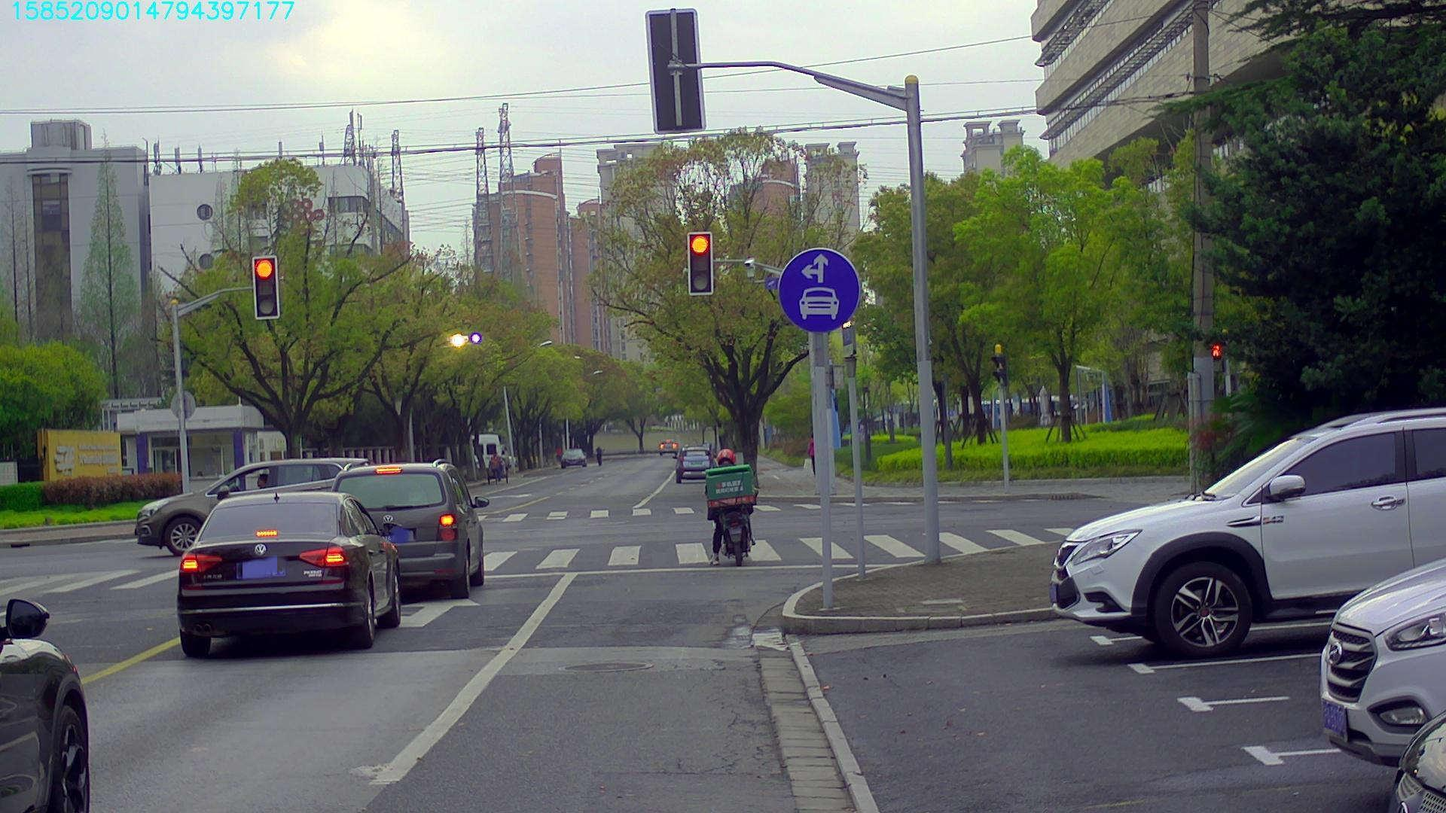red: (253, 257, 278, 317), (688, 233, 711, 293)
